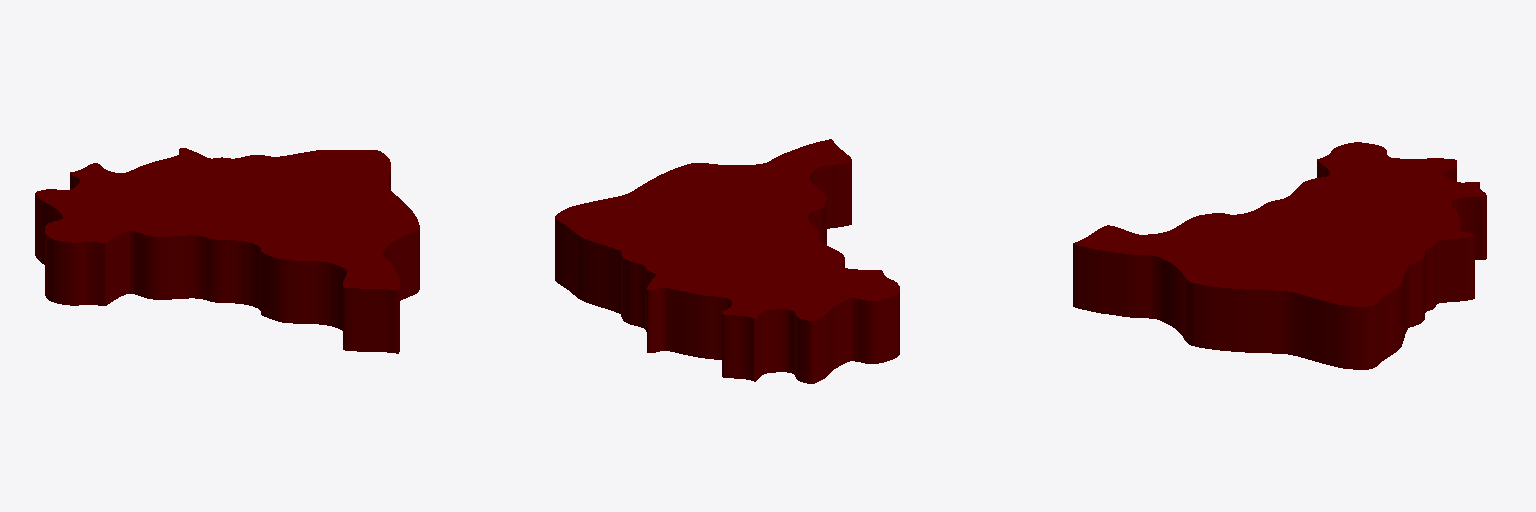
File: South_America_02.obj
3 renders of one model, left to right at view 1: azimuth 30°, elevation 25°; view 2: azimuth 150°, elevation 25°; view 3: azimuth 270°, elevation 25°, orthographic.
Parts seen in each view (by area): view 1: South_America_02_path4210; view 2: South_America_02_path4210; view 3: South_America_02_path4210.
Boxes of the visible parts, x1=… form: South_America_02_path4210: x1=35, y1=148, x2=419, y2=353; South_America_02_path4210: x1=555, y1=139, x2=899, y2=383; South_America_02_path4210: x1=1073, y1=142, x2=1486, y2=369.
Bounding box in the file's own units: 0.5592 × 0.1 × 0.5942.